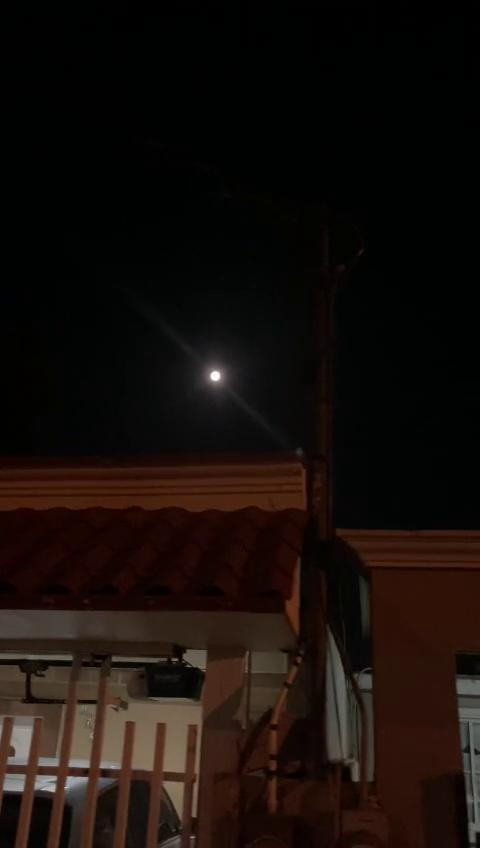moon: (206, 362, 226, 388)
